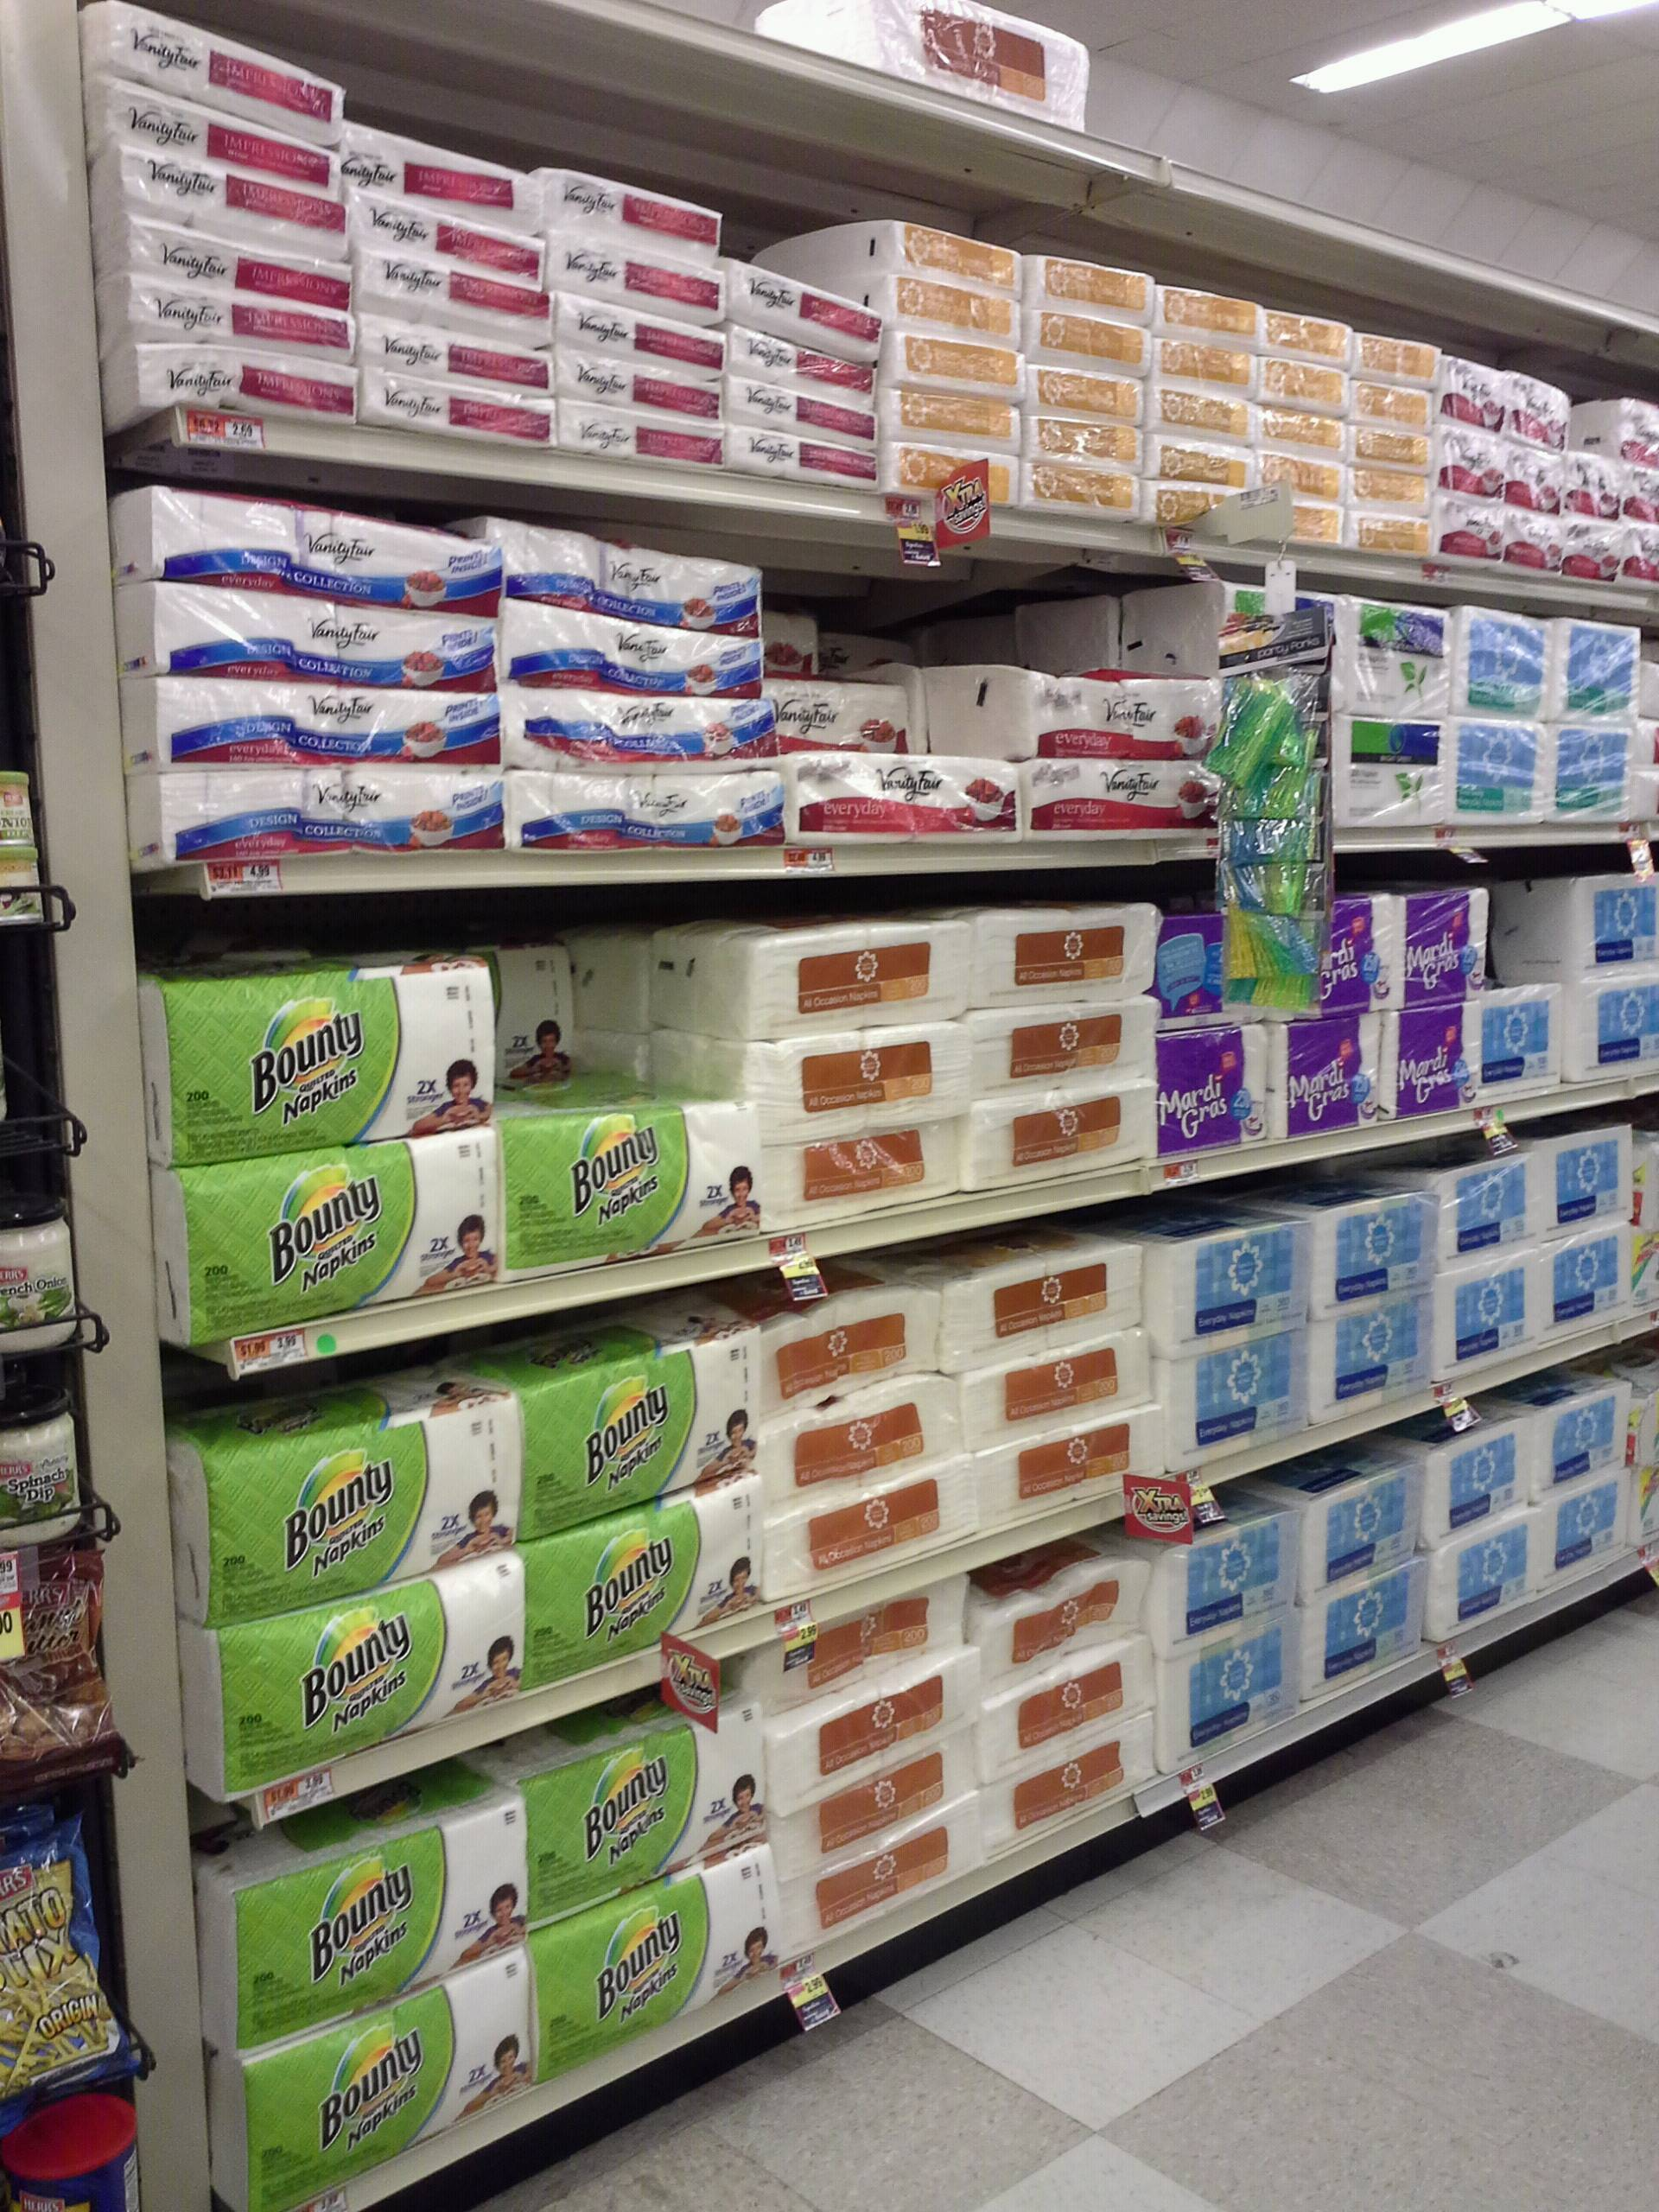Misplacement: (490, 935, 755, 1289), (765, 554, 1023, 859)
